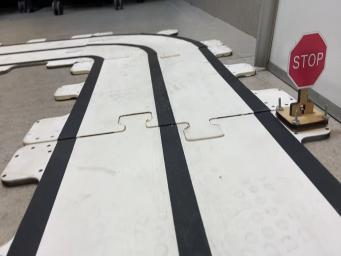stop: (276, 31, 328, 131), (276, 31, 328, 131), (276, 31, 328, 131), (276, 31, 328, 131), (276, 31, 328, 131)
street: (0, 33, 341, 256), (0, 33, 341, 256), (0, 33, 341, 256), (0, 33, 341, 256), (0, 33, 341, 256)
